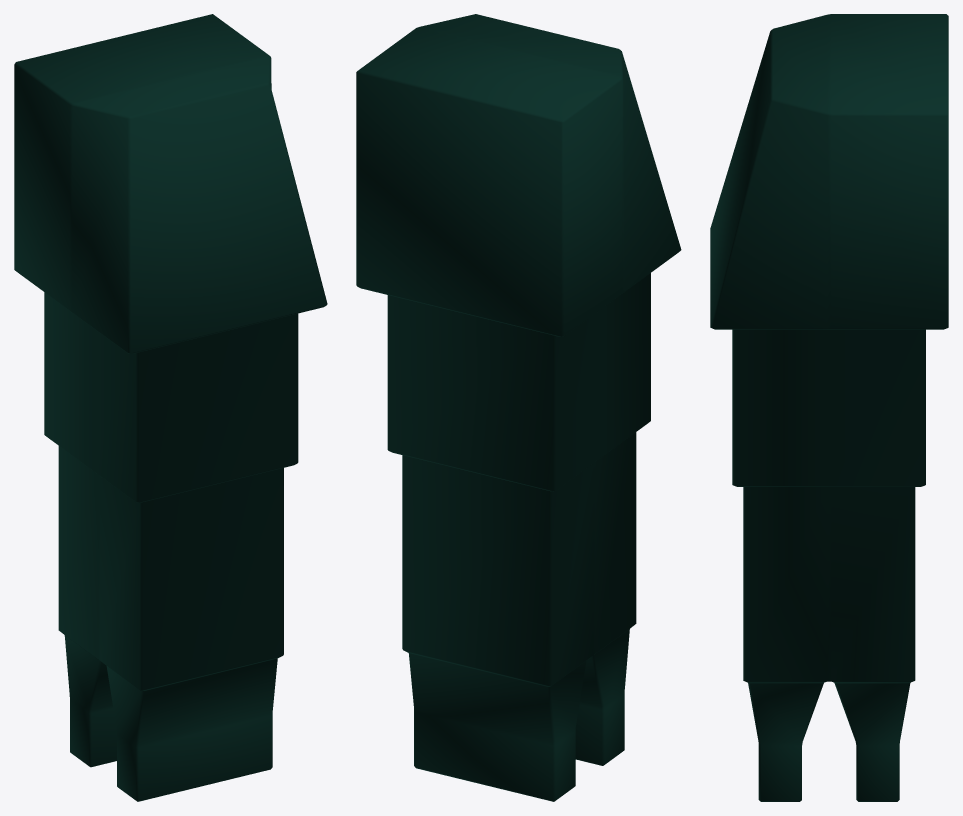
File: rightarm.obj
The picture shows the model from 3 angles, left to right: view 1: azimuth 30°, elevation 25°; view 2: azimuth 150°, elevation 25°; view 3: azimuth 270°, elevation 25°; orthographic projection. The views are drawn at different scales.
Visible parts, largest first — view 1: brazo_derecho_Cube.008; view 2: brazo_derecho_Cube.008; view 3: brazo_derecho_Cube.008.
Boxes of the visible parts, box(x1,y1,x2,y2) form: brazo_derecho_Cube.008: box(14, 14, 327, 801); brazo_derecho_Cube.008: box(356, 14, 681, 801); brazo_derecho_Cube.008: box(710, 14, 948, 801).
Bounding box in the file's own units: 0.4599 × 1.5 × 0.4588.
